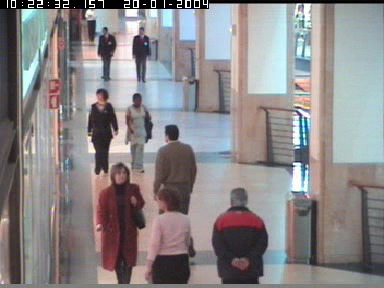person: (95, 162, 145, 287), (153, 124, 197, 262), (210, 187, 268, 285), (144, 187, 194, 283), (87, 87, 117, 175), (125, 93, 153, 173), (97, 27, 116, 81), (130, 27, 149, 81), (84, 9, 96, 42)
